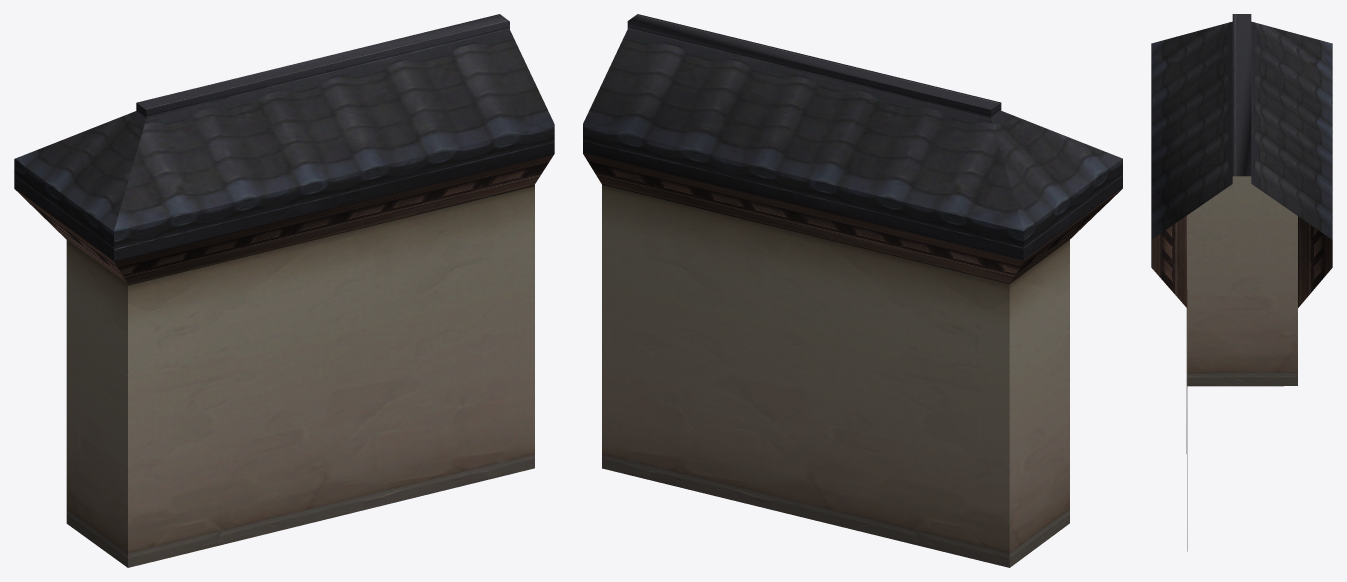
Rendered from bujian_07.fbx.
3 views of the same model, side by side, from view 1: azimuth 30°, elevation 25°; view 2: azimuth 150°, elevation 25°; view 3: azimuth 270°, elevation 25° (orthographic). The views are drawn at different scales.
Visible parts, largest first — view 1: polySurface1; view 2: polySurface1; view 3: polySurface1.
Boxes of the visible parts, <box> form: polySurface1: <box>14,14,554,567</box>; polySurface1: <box>583,14,1122,567</box>; polySurface1: <box>1151,14,1332,551</box>.
Size of the model in its own units: 5.01 by 4.65 by 1.96.
Materials: 1 (1 with a texture image).
